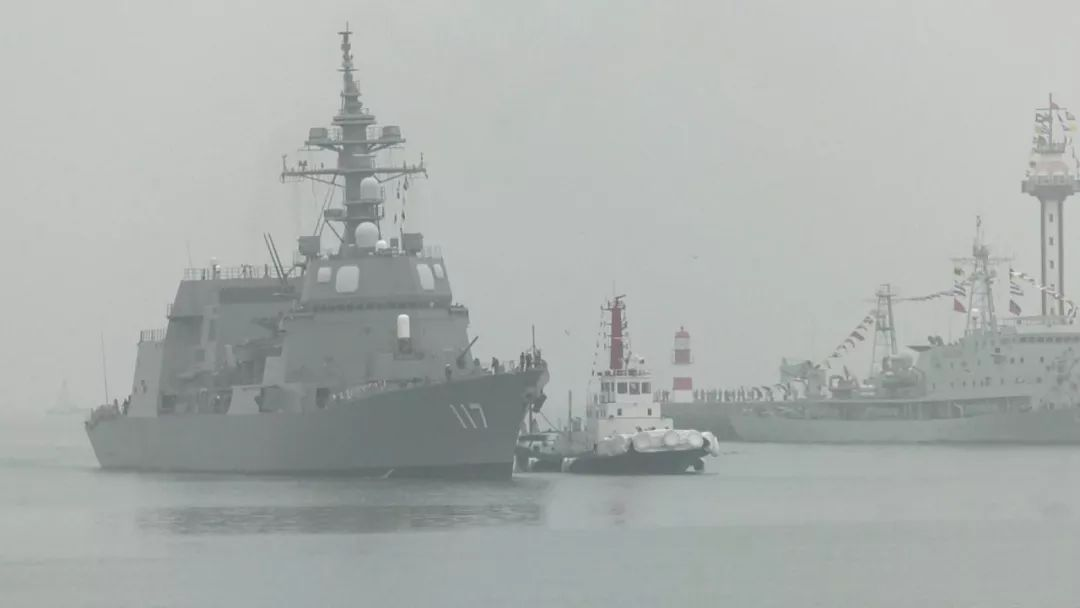warship: (87, 26, 577, 481), (654, 94, 1080, 439), (517, 309, 722, 472)
